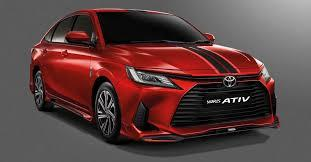toyota: (219, 74, 238, 88)
